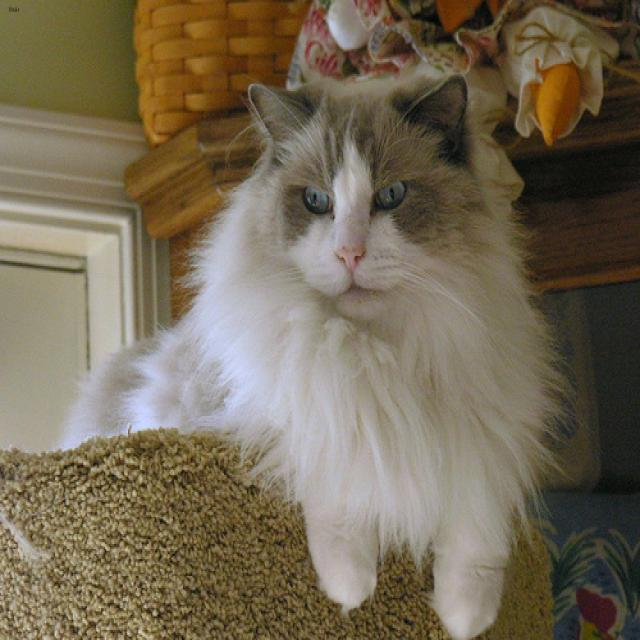Ragdoll: (247, 72, 466, 315)
